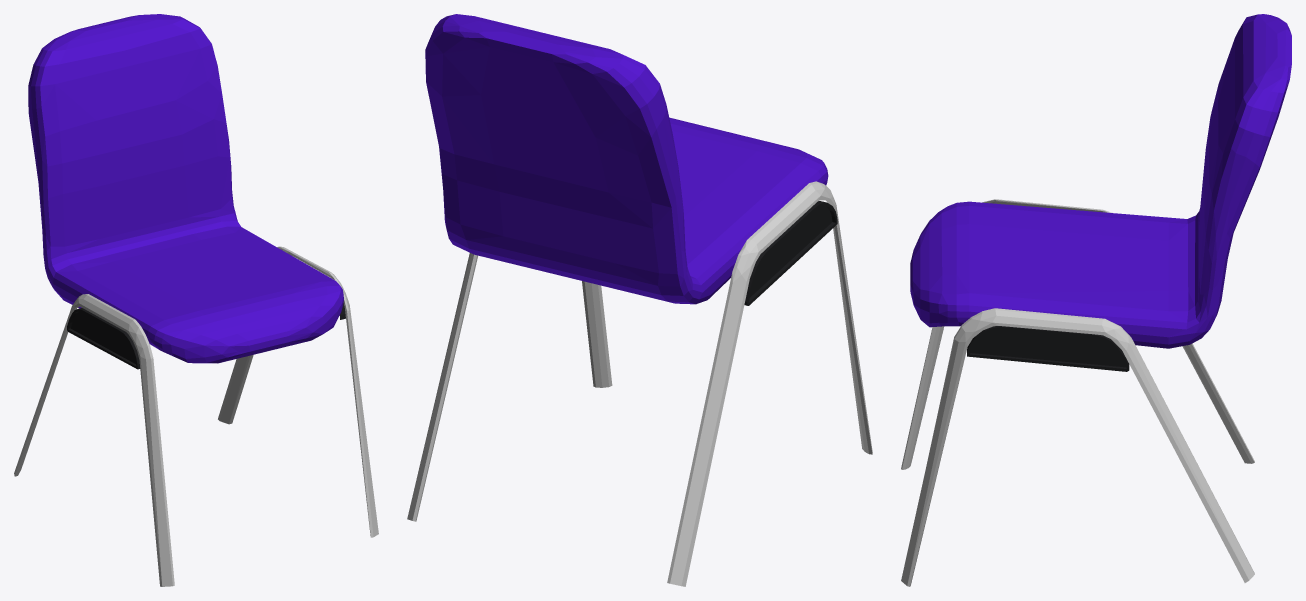
File: chair-purple.obj
The picture shows the model from 3 angles, left to right: view 1: azimuth 30°, elevation 25°; view 2: azimuth 150°, elevation 25°; view 3: azimuth 270°, elevation 25°; orthographic projection. The views are drawn at different scales.
Visible parts, largest first — view 1: Chair_001, Chair_001.002, Chair_001.001; view 2: Chair_001, Chair_001.002, Chair_001.001; view 3: Chair_001, Chair_001.002, Chair_001.001.
Part boxes in pixels (left/top/right/bottom): Chair_001: left=28, top=14, right=343, bottom=363; Chair_001.002: left=14, top=246, right=378, bottom=586; Chair_001.001: left=67, top=303, right=345, bottom=369; Chair_001: left=425, top=14, right=828, bottom=304; Chair_001.002: left=407, top=181, right=872, bottom=586; Chair_001.001: left=744, top=201, right=837, bottom=305; Chair_001: left=910, top=14, right=1291, bottom=348; Chair_001.002: left=901, top=199, right=1254, bottom=586; Chair_001.001: left=967, top=326, right=1129, bottom=371.
Bounding box in the file's own units: 0.5581 × 1.02 × 0.7528.
